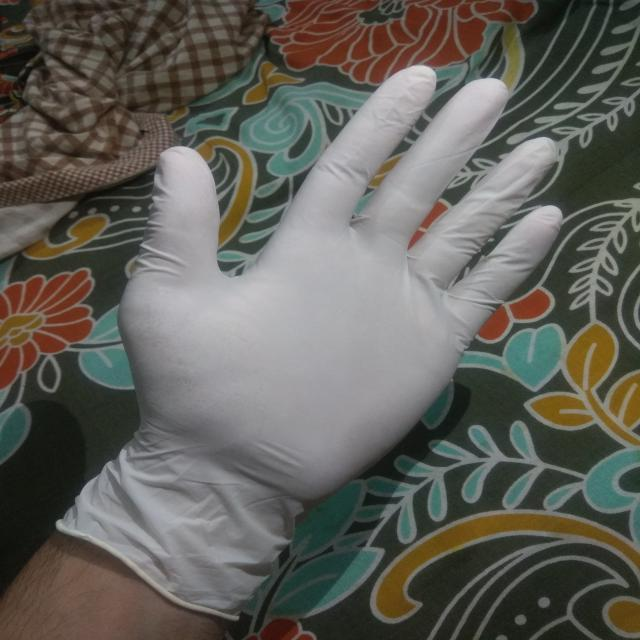glove_hand: (45, 65, 568, 626)
